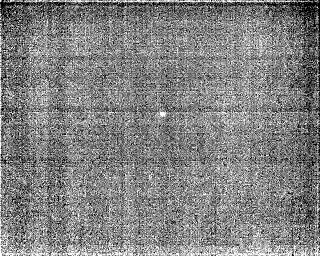BIRD: (155, 108, 169, 121)
